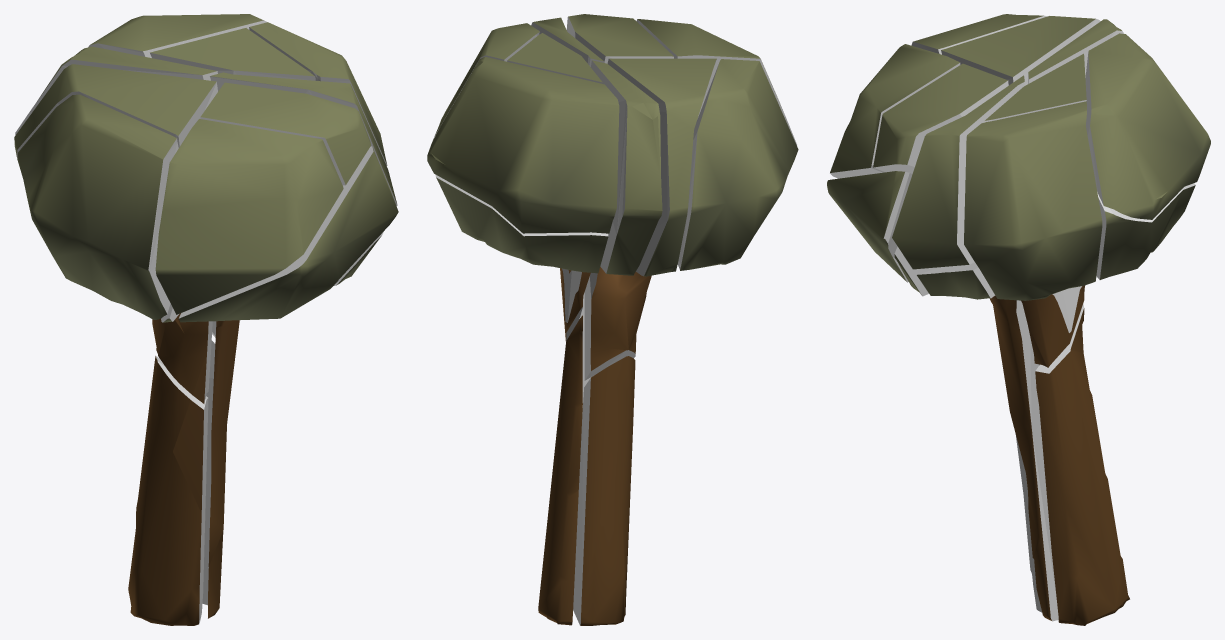
The model's file is Trees(1).glb.
3 renders of one model, left to right at view 1: azimuth 30°, elevation 25°; view 2: azimuth 150°, elevation 25°; view 3: azimuth 270°, elevation 25°, orthographic. The views are drawn at different scales.
Visible parts, largest first — view 1: Root.002, Root.004, Root, Root.006, Root.012, Root.010, Root.014, Root.003, Root.007, Root.008, Root.011, Root.005 (+2 smaller); view 2: Root.007, Root.004, Root, Root.012, Root.013, Root.001, Root.015, Root.008, Root.010, Root.002, Root.003, Root.011 (+2 smaller); view 3: Root.011, Root.001, Root.007, Root.005, Root.014, Root.010, Root.002, Root.009, Root.012, Root.006, Root.015, Root.003 (+3 smaller).
Boxes of the visible parts, x1,y1,x2,y2 form: Root.002: [155, 119, 343, 314]; Root.004: [17, 94, 178, 319]; Root: [128, 356, 208, 625]; Root.006: [178, 146, 398, 322]; Root.012: [14, 64, 217, 157]; Root.010: [200, 82, 370, 186]; Root.014: [208, 231, 383, 618]; Root.003: [150, 28, 315, 80]; Root.007: [88, 14, 267, 57]; Root.008: [152, 304, 212, 403]; Root.011: [249, 22, 387, 165]; Root.005: [210, 72, 397, 205]; Root.007: [427, 57, 619, 233]; Root.004: [677, 59, 798, 270]; Root: [573, 356, 635, 625]; Root.012: [607, 58, 716, 276]; Root.013: [590, 60, 662, 275]; Root.001: [538, 315, 582, 625]; Root.015: [432, 133, 608, 273]; Root.008: [584, 267, 651, 380]; Root.010: [566, 14, 673, 63]; Root.002: [636, 19, 796, 145]; Root.003: [507, 33, 602, 83]; Root.011: [434, 23, 539, 136]; Root.011: [964, 101, 1102, 300]; Root.001: [1035, 304, 1129, 625]; Root.007: [1085, 33, 1210, 219]; Root.005: [892, 75, 1024, 269]; Root.014: [894, 246, 1058, 621]; Root.010: [873, 63, 1008, 173]; Root.002: [830, 44, 960, 178]; Root.009: [917, 262, 1084, 367]; Root.012: [941, 16, 1100, 85]; Root.006: [827, 171, 912, 282]; Root.015: [1096, 183, 1195, 279]; Root.003: [984, 53, 1086, 122].
Bounding box in the file's own units: 1.85 × 2.93 × 1.84.
